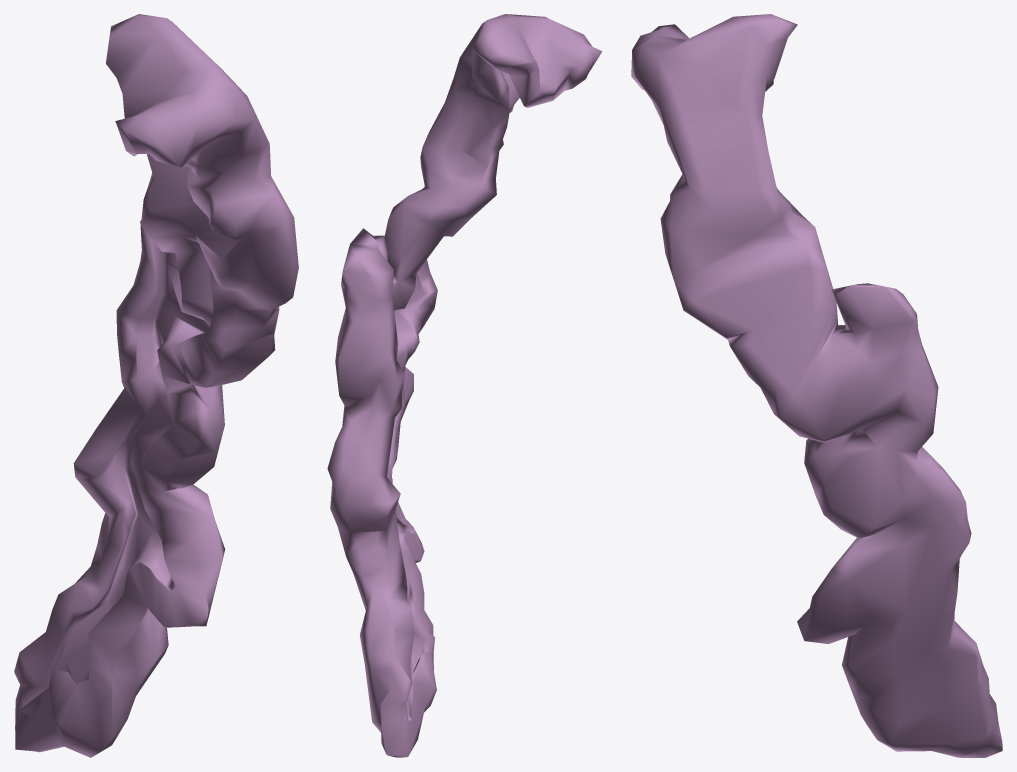
The picture shows the model from 3 angles, left to right: view 1: azimuth 30°, elevation 25°; view 2: azimuth 150°, elevation 25°; view 3: azimuth 270°, elevation 25°; orthographic projection. The views are drawn at different scales.
Visible parts, largest first — view 1: 左侧颞中回; view 2: 左侧颞中回; view 3: 左侧颞中回.
Boxes of the visible parts, left/top/right/bottom form: 左侧颞中回: left=14, top=14, right=298, bottom=757; 左侧颞中回: left=327, top=14, right=602, bottom=757; 左侧颞中回: left=631, top=14, right=1002, bottom=757.
Size of the model in its own units: 0.0414 by 0.1479 by 0.0667.
